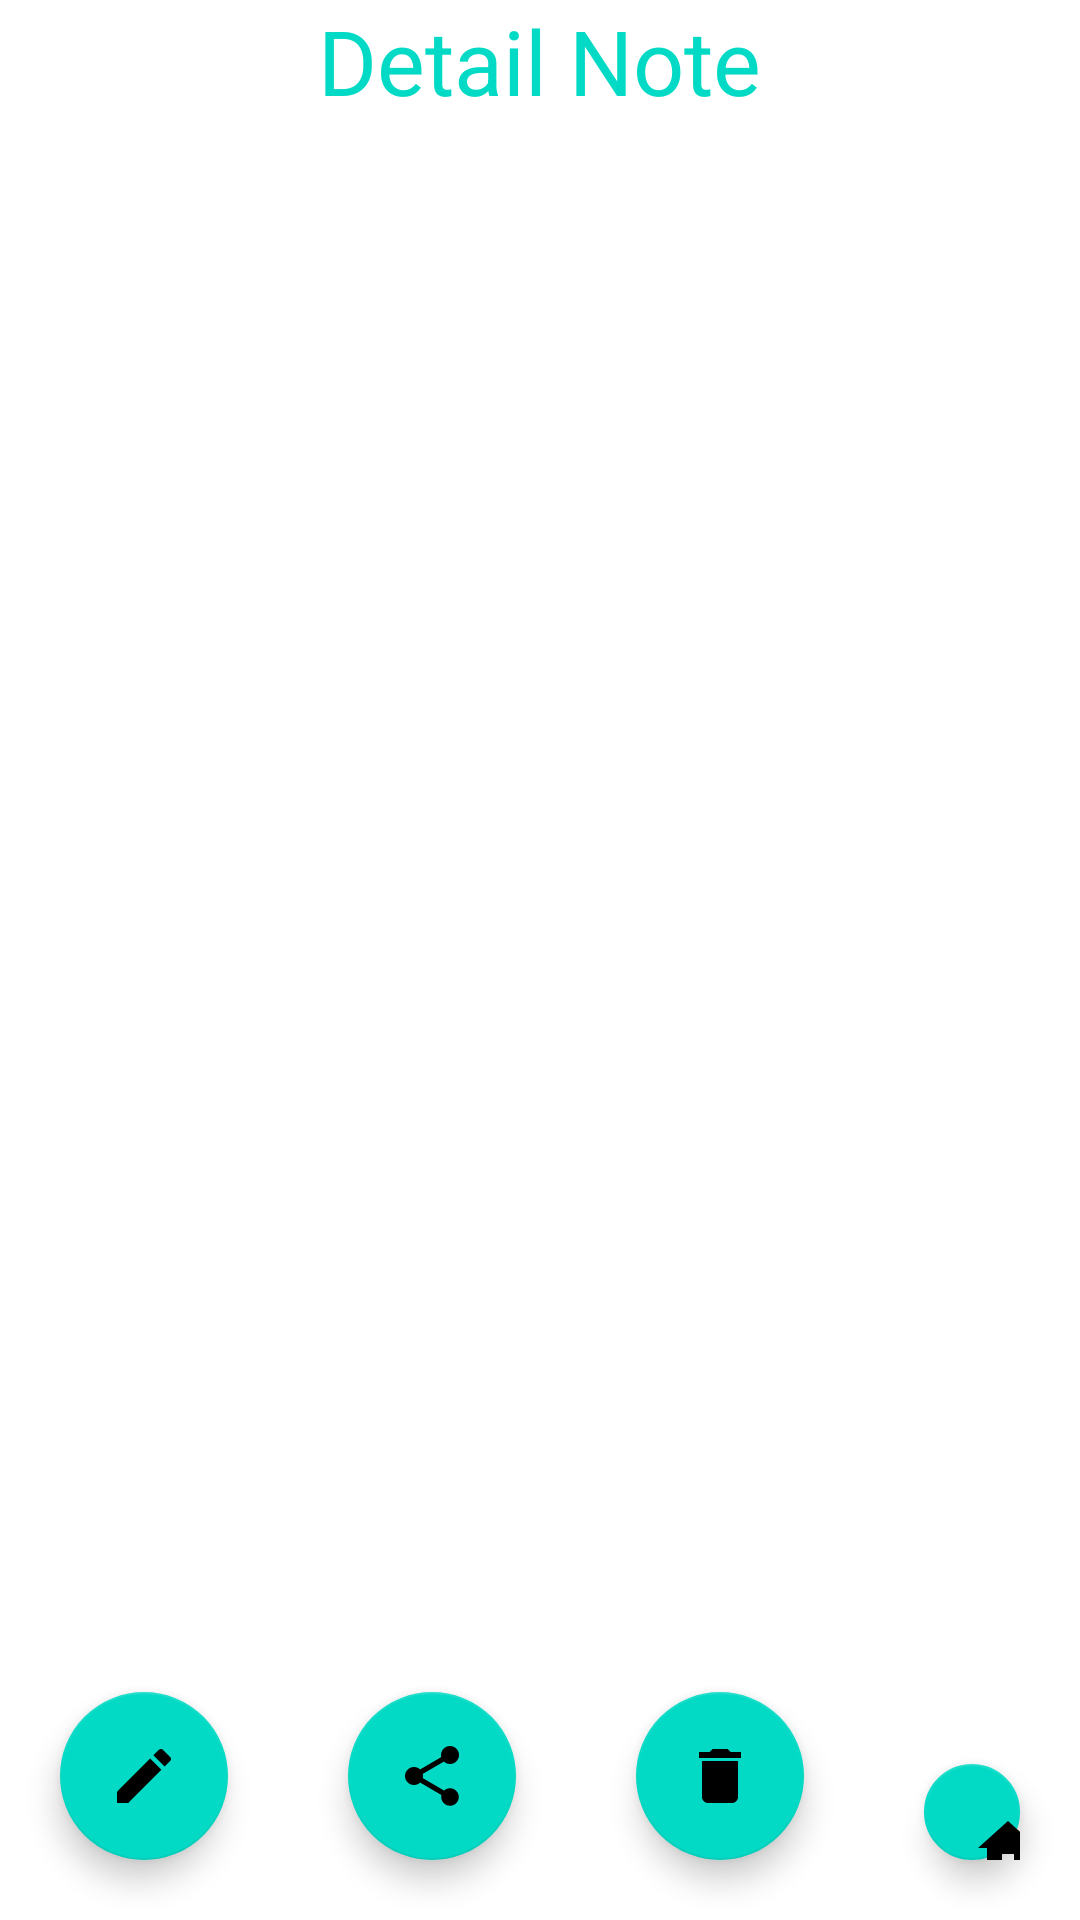

Named icons in this screenshot (1080px×1920px) and their bounding boxes, (x1, y1, x2, y2):
delete: (636, 1692, 804, 1860)
edit: (60, 1692, 228, 1860)
share: (348, 1692, 516, 1860)
